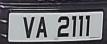1: (69, 14, 78, 40), (76, 15, 85, 39), (83, 14, 91, 38)
2: (56, 14, 70, 40)
A: (35, 15, 49, 40)
V: (21, 16, 36, 39)
